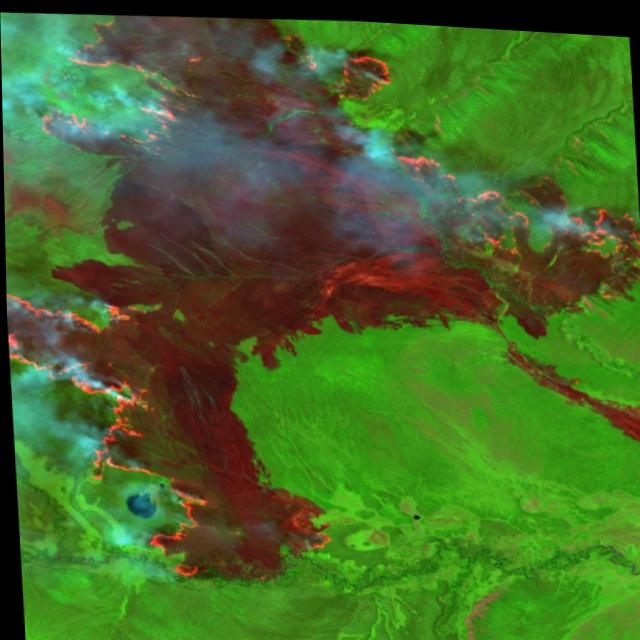fire: (0, 0, 640, 608)
